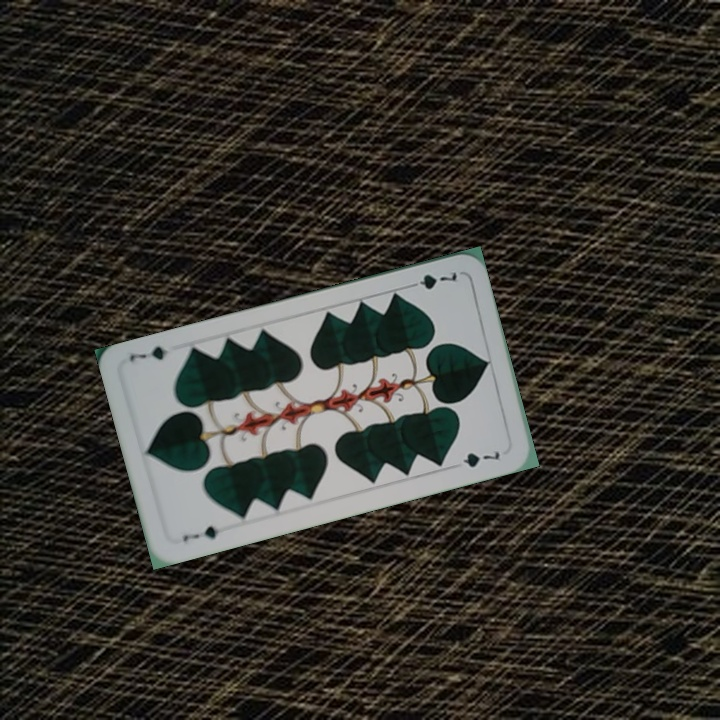G7: (403, 268, 460, 293), (179, 522, 229, 545)
